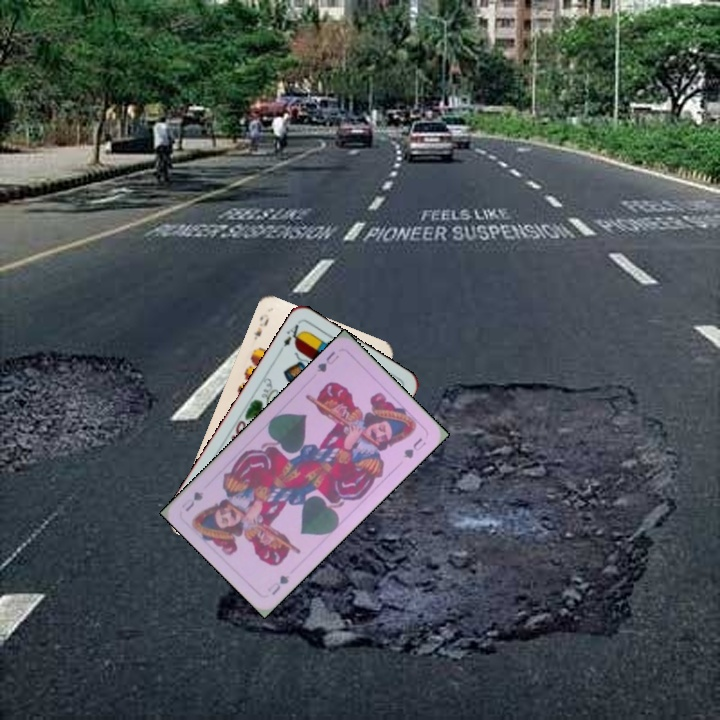E9: (250, 314, 272, 342)
EA: (279, 320, 307, 349)
GU: (313, 347, 342, 375), (263, 571, 292, 598)
